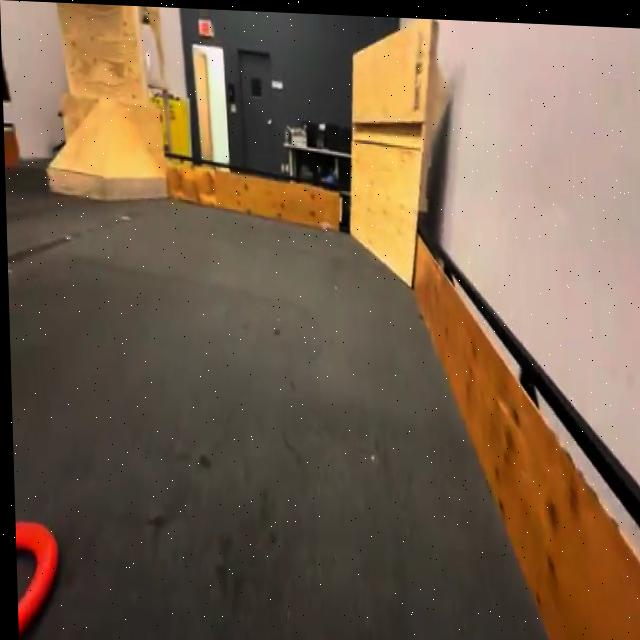note: (12, 517, 57, 640)
